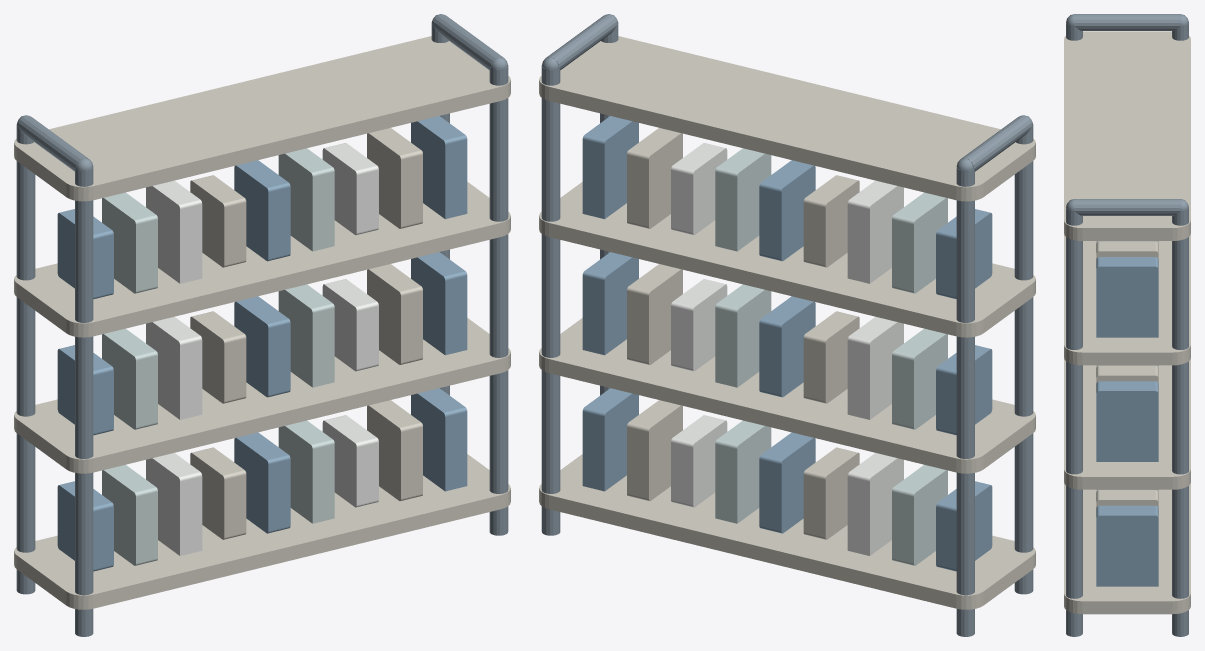
File: school_open_bookshelf.glb
3 views of the same model, side by side, from view 1: azimuth 30°, elevation 25°; view 2: azimuth 150°, elevation 25°; view 3: azimuth 270°, elevation 25° (orthographic). The views are drawn at different scales.
Visible parts, largest first — view 1: decor_aaa493_matte, decor_476a8a_matte, decor_455665_metal, decor_9bb7b5_matte, decor_d8dcd8_matte; view 2: decor_aaa493_matte, decor_476a8a_matte, decor_455665_metal, decor_9bb7b5_matte, decor_d8dcd8_matte; view 3: decor_aaa493_matte, decor_455665_metal, decor_476a8a_matte, decor_d8dcd8_matte.
Boxes of the visible parts, x1=… form: decor_aaa493_matte: x1=14, y1=36, x2=510, y2=609; decor_476a8a_matte: x1=57, y1=116, x2=467, y2=571; decor_455665_metal: x1=16, y1=14, x2=508, y2=636; decor_9bb7b5_matte: x1=102, y1=148, x2=334, y2=565; decor_d8dcd8_matte: x1=146, y1=143, x2=378, y2=555; decor_aaa493_matte: x1=539, y1=36, x2=1035, y2=609; decor_476a8a_matte: x1=582, y1=116, x2=992, y2=571; decor_455665_metal: x1=541, y1=14, x2=1033, y2=636; decor_9bb7b5_matte: x1=715, y1=148, x2=947, y2=565; decor_d8dcd8_matte: x1=671, y1=143, x2=903, y2=555; decor_aaa493_matte: x1=1064, y1=31, x2=1190, y2=614; decor_455665_metal: x1=1066, y1=14, x2=1188, y2=636; decor_476a8a_matte: x1=1096, y1=257, x2=1158, y2=586; decor_d8dcd8_matte: x1=1096, y1=241, x2=1158, y2=491.
Size of the model in its own units: 1.8 by 1.85 by 0.49.
